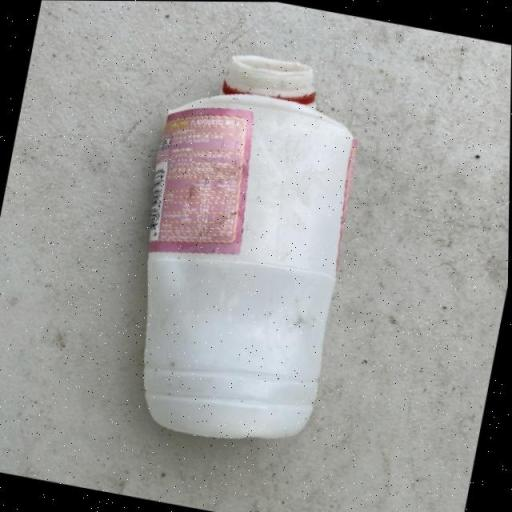plastic: (105, 38, 378, 456)
